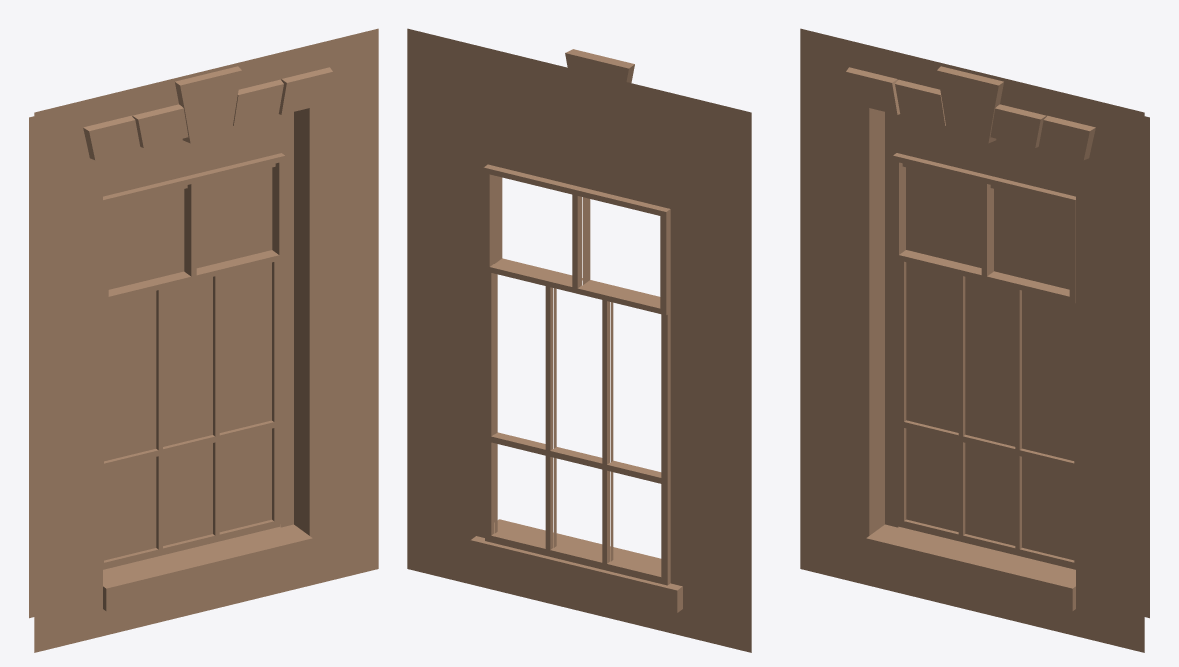
Rendered from env_block_brick_window_trim.glb.
3 views of the same model, side by side, from view 1: azimuth 30°, elevation 25°; view 2: azimuth 150°, elevation 25°; view 3: azimuth 330°, elevation 25° (orthographic).
Parts seen in each view (by area): view 1: part_0; view 2: part_0; view 3: part_0.
Part boxes in pixels (bbox=[...]): part_0: bbox=[29, 28, 378, 652]; part_0: bbox=[407, 28, 751, 652]; part_0: bbox=[800, 28, 1149, 652].
Bounding box in the file's own units: 2 × 3 × 0.304.
